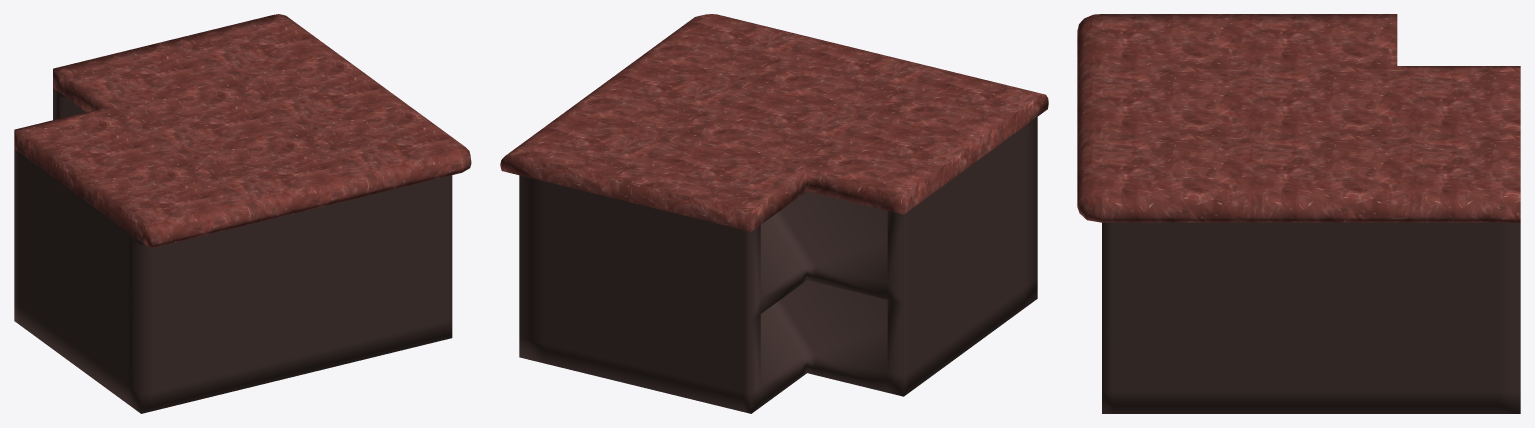
Rendered from counterCornerSharp.gltf.
3 renders of one model, left to right at view 1: azimuth 30°, elevation 25°; view 2: azimuth 150°, elevation 25°; view 3: azimuth 270°, elevation 25°, orthographic. The views are drawn at different scales.
Parts seen in each view (by area): view 1: counterCornerSharp; view 2: counterCornerSharp; view 3: counterCornerSharp.
Part boxes in pixels (x1,y1,x2,y2): counterCornerSharp: (14,14,471,413); counterCornerSharp: (500,14,1048,413); counterCornerSharp: (1077,14,1520,413).
Bounding box in the file's own units: 1.8 × 1 × 1.8.
2 materials, 1 textured.
